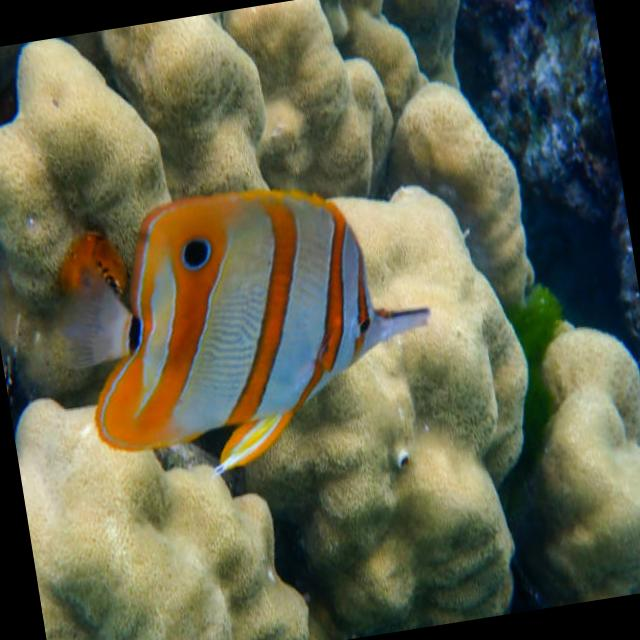ButterflyFish: (44, 164, 450, 497)
